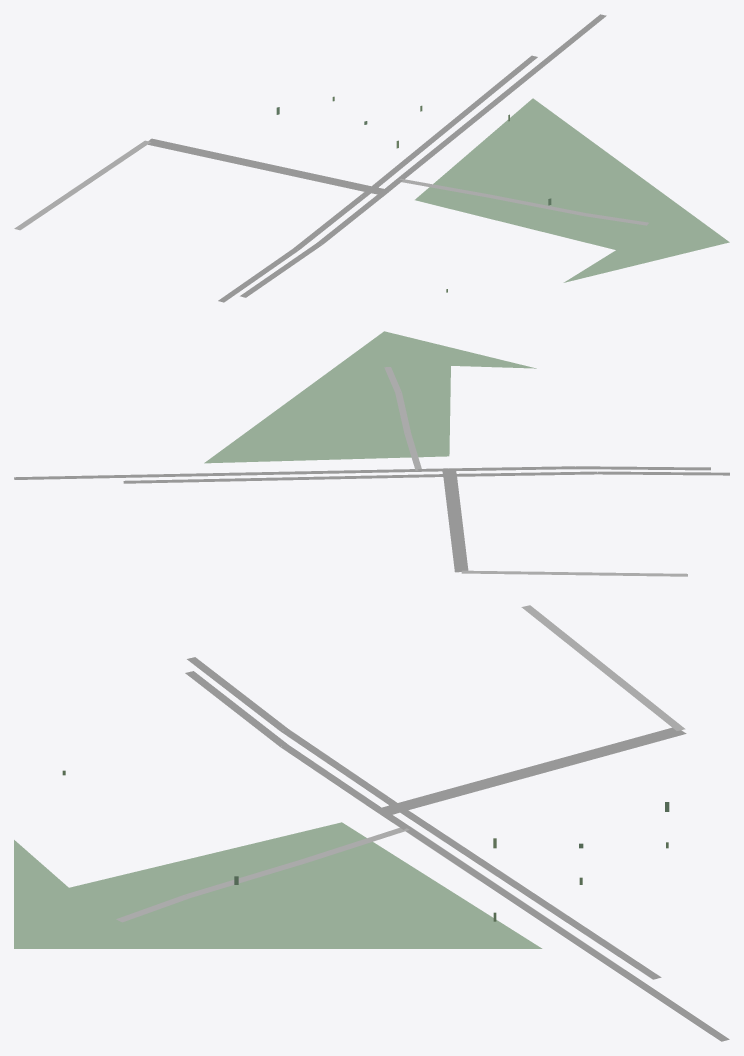
3 views of the same model, one above another, from view 1: azimuth 30°, elevation 25°; view 2: azimuth 150°, elevation 25°; view 3: azimuth 270°, elevation 25° (orthographic). The views are drawn at different scales.
Bounding box in the file's own units: 717 × 8.73 × 499.
